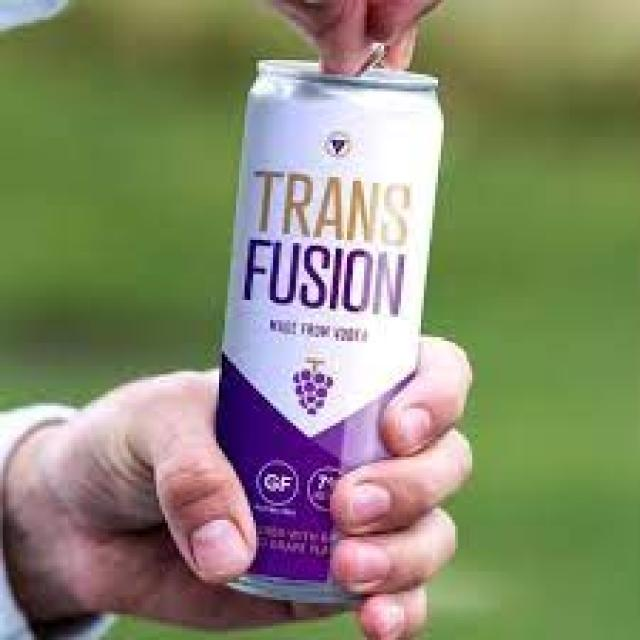Cans: (202, 51, 461, 606)
